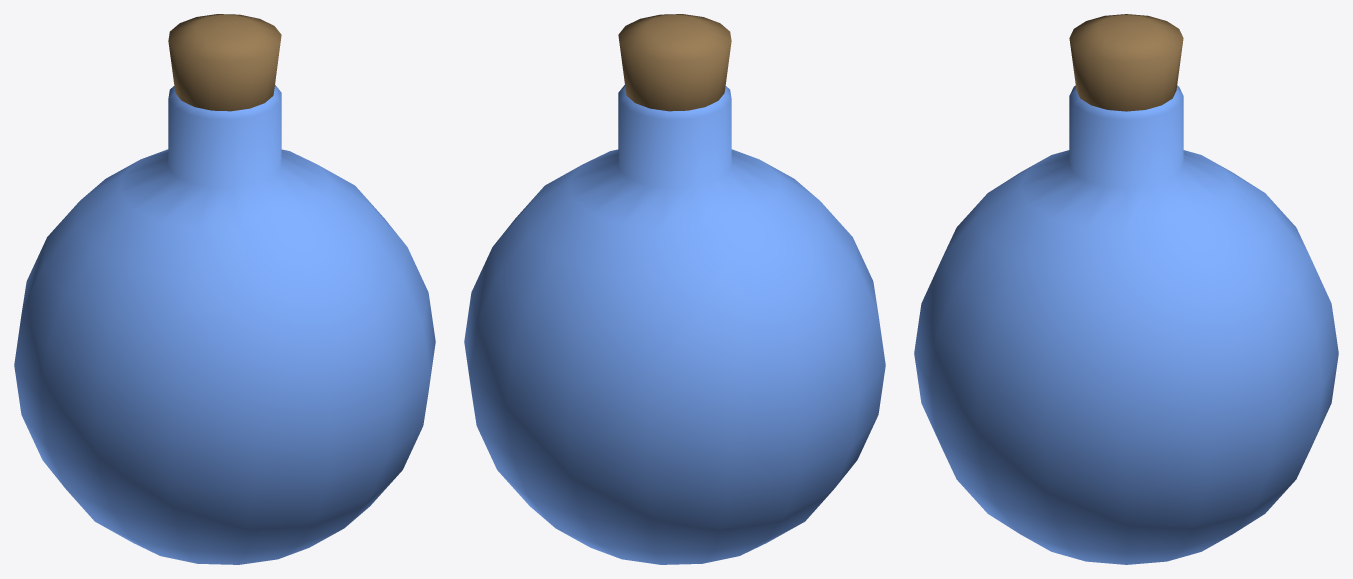
File: HealthPotionLarge.fbx
3 renders of one model, left to right at view 1: azimuth 30°, elevation 25°; view 2: azimuth 150°, elevation 25°; view 3: azimuth 270°, elevation 25°, orthographic.
Parts seen in each view (by area): view 1: Sphere.002; view 2: Sphere.002; view 3: Sphere.002.
Boxes of the visible parts, x1,y1,x2,y2 form: Sphere.002: [14, 14, 435, 564]; Sphere.002: [464, 14, 885, 564]; Sphere.002: [914, 14, 1338, 564].
Bounding box in the file's own units: 371 × 503 × 371.
